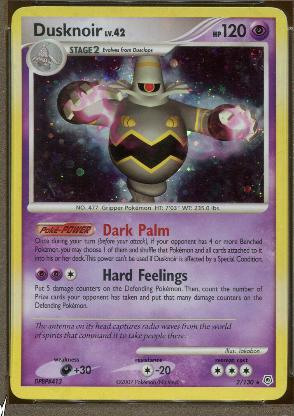Card: (7, 3, 289, 403)
